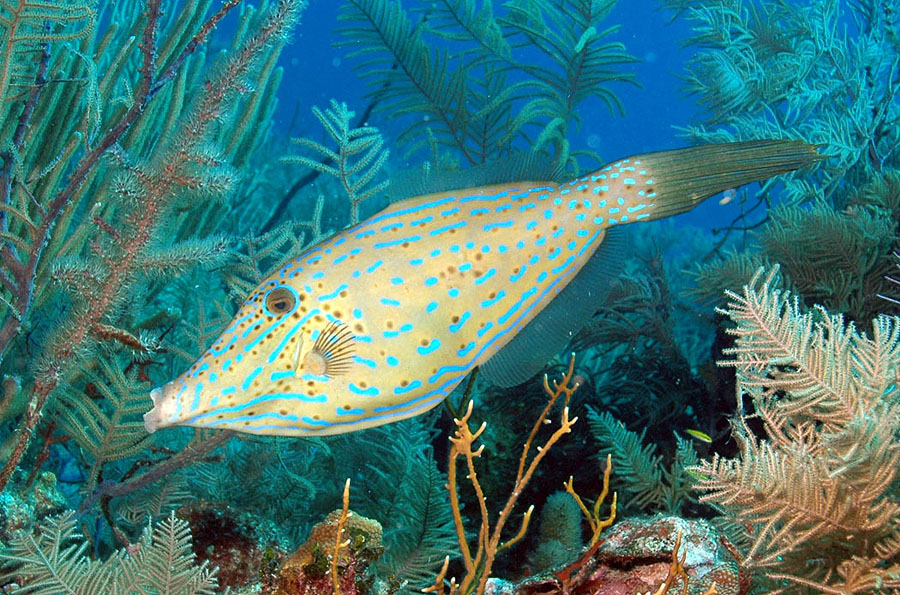Aluterus_scriptus: (116, 132, 826, 438)
